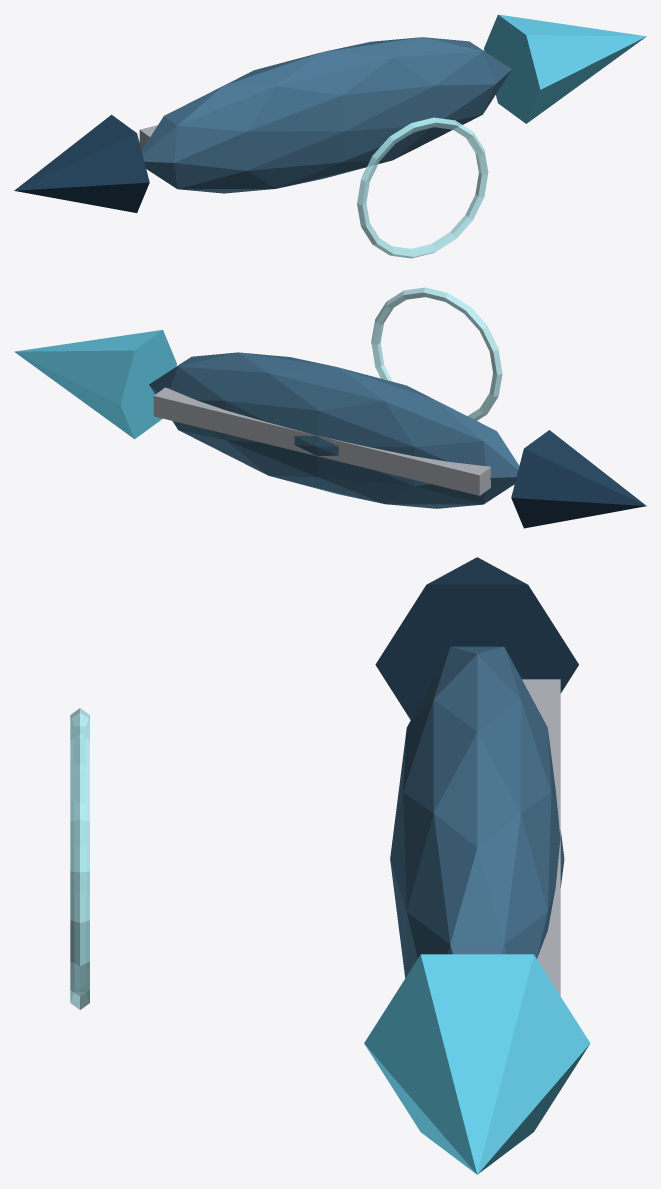
File: 05_skyship_hull.glb
3 renders of one model, top to bottom at view 1: azimuth 30°, elevation 25°; view 2: azimuth 150°, elevation 25°; view 3: azimuth 270°, elevation 25°, orthographic. The views are drawn at different scales.
Parts seen in each view (by area): view 1: hull_low_poly, bow_upgrade, stern_fin, size_class_ring; view 2: hull_low_poly, bow_upgrade, keel_plate, stern_fin, size_class_ring; view 3: hull_low_poly, bow_upgrade, stern_fin, size_class_ring, keel_plate.
Part boxes in pixels (left/top/right/bottom): hull_low_poly: left=141, top=37, right=511, bottom=193; bow_upgrade: left=484, top=14, right=646, bottom=123; stern_fin: left=14, top=114, right=149, bottom=212; size_class_ring: left=357, top=117, right=488, bottom=258; hull_low_poly: left=149, top=352, right=519, bottom=508; bow_upgrade: left=14, top=330, right=176, bottom=439; keel_plate: left=153, top=387, right=490, bottom=495; stern_fin: left=511, top=430, right=646, bottom=528; size_class_ring: left=371, top=287, right=502, bottom=420; hull_low_poly: left=390, top=646, right=564, bottom=977; bow_upgrade: left=364, top=954, right=590, bottom=1174; stern_fin: left=375, top=557, right=578, bottom=719; size_class_ring: left=70, top=708, right=89, bottom=1009; keel_plate: left=522, top=679, right=560, bottom=995.
Size of the model in its own units: 7.23 by 1.48 by 2.57.
